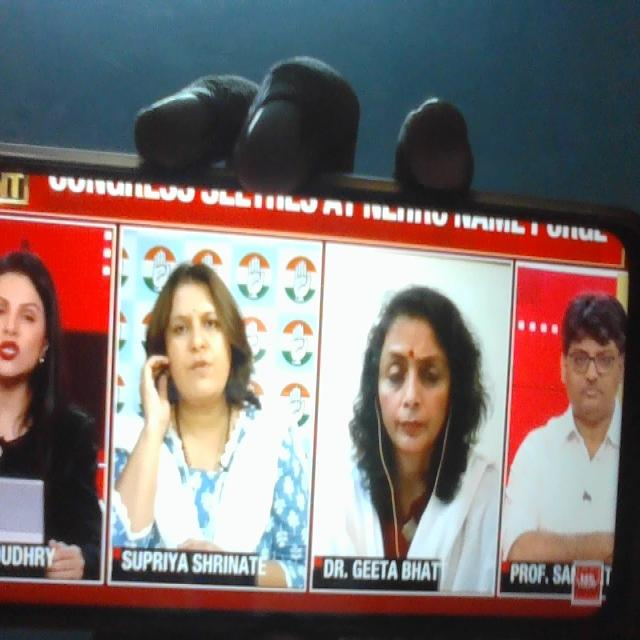fake: (362, 284, 470, 488)
